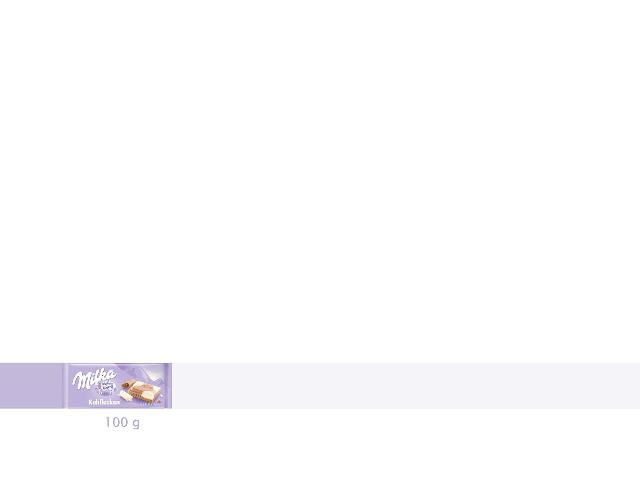chocolate: (61, 362, 172, 410)
